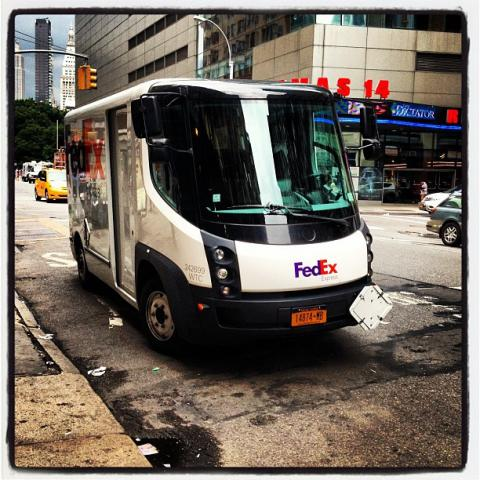car: (426, 187, 465, 248), (416, 184, 464, 213), (33, 166, 68, 203), (356, 180, 398, 198)
truck: (61, 77, 377, 354), (27, 164, 42, 184)
